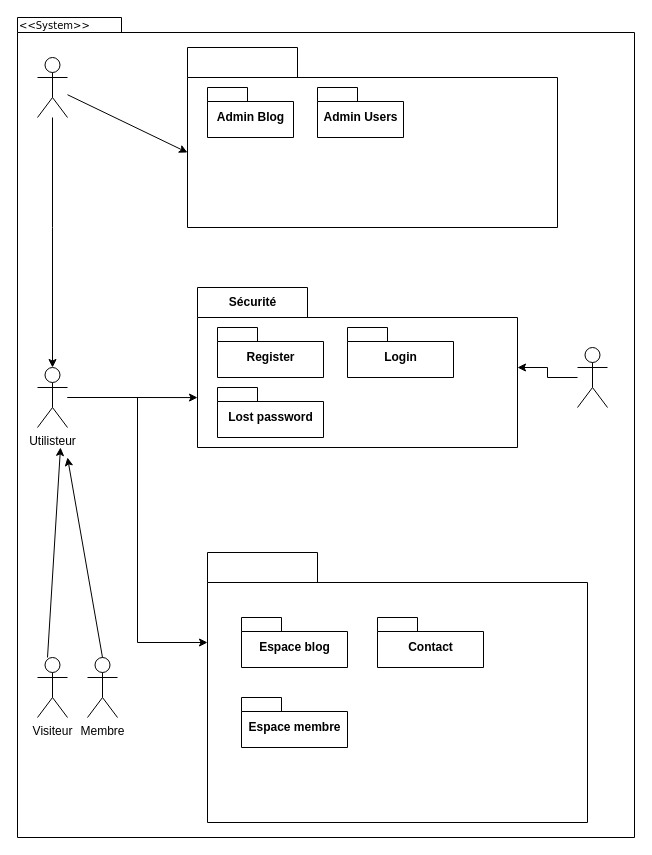
The diagram is 652 pixels wide and 855 high, and some of its shapes have lost their labels. Each missing label, with the box of its shape:
<<System>> Email API: (576, 346, 608, 408)
Admin: (36, 56, 68, 118)
Back-Office: (186, 46, 558, 228)
Front-office: (206, 552, 588, 822)
